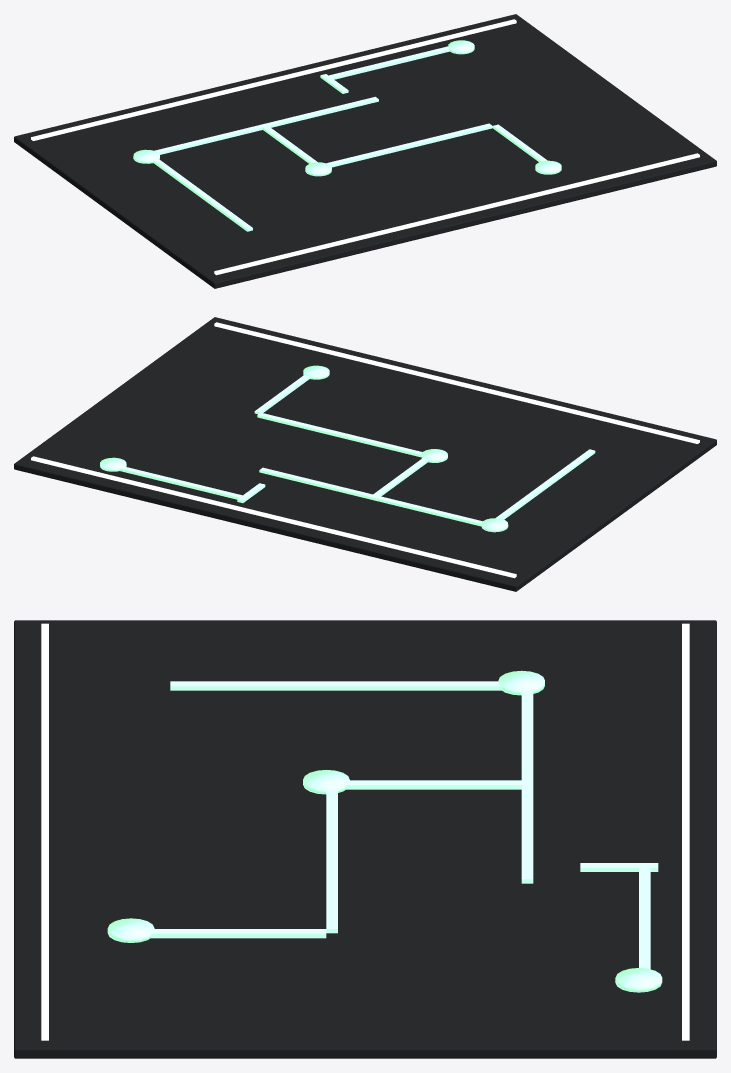
Rendered from rug_circuit.glb.
The picture shows the model from 3 angles, top to bottom: view 1: azimuth 30°, elevation 25°; view 2: azimuth 150°, elevation 25°; view 3: azimuth 270°, elevation 25°; orthographic projection. The views are drawn at different scales.
Visible parts, largest first — view 1: GD_rug_circuit__m0, GD_rug_circuit__m1, GD_rug_circuit__m2; view 2: GD_rug_circuit__m0, GD_rug_circuit__m1, GD_rug_circuit__m2; view 3: GD_rug_circuit__m0, GD_rug_circuit__m1, GD_rug_circuit__m2.
Part boxes in pixels (x1,y1,x2,y2): GD_rug_circuit__m0: [14, 14, 716, 288]; GD_rug_circuit__m1: [133, 40, 561, 231]; GD_rug_circuit__m2: [31, 19, 699, 275]; GD_rug_circuit__m0: [14, 317, 716, 591]; GD_rug_circuit__m1: [100, 365, 595, 532]; GD_rug_circuit__m2: [31, 322, 699, 578]; GD_rug_circuit__m0: [14, 620, 716, 1058]; GD_rug_circuit__m1: [107, 670, 662, 992]; GD_rug_circuit__m2: [41, 623, 689, 1040].
Bounding box in the file's own units: 2.6 × 0.044 × 1.8.
